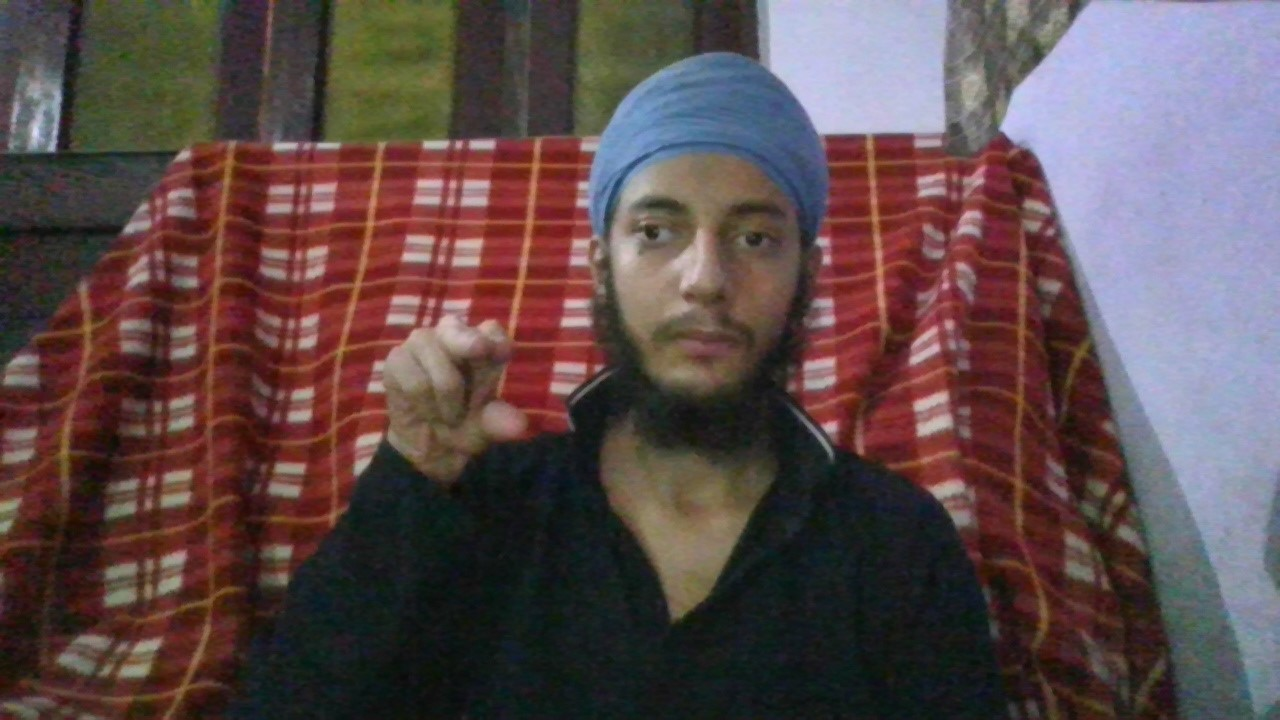No: (381, 316, 528, 463)
